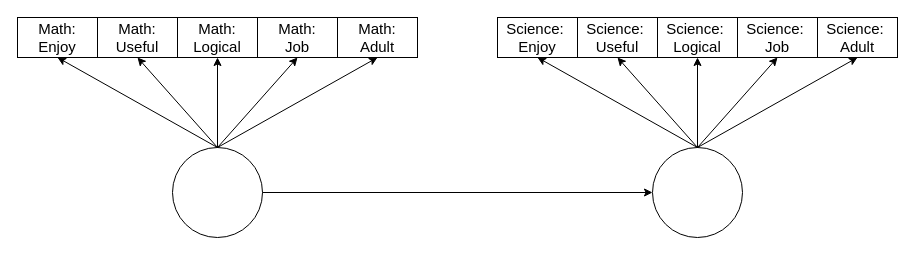
The diagram is 915 pixels wide and 255 high, and some of its shapes have lost their labels. Here are the shapes that lost their labels. From the top down, the centre of each, then its label:
point (217, 192): C math
point (697, 192): C science
